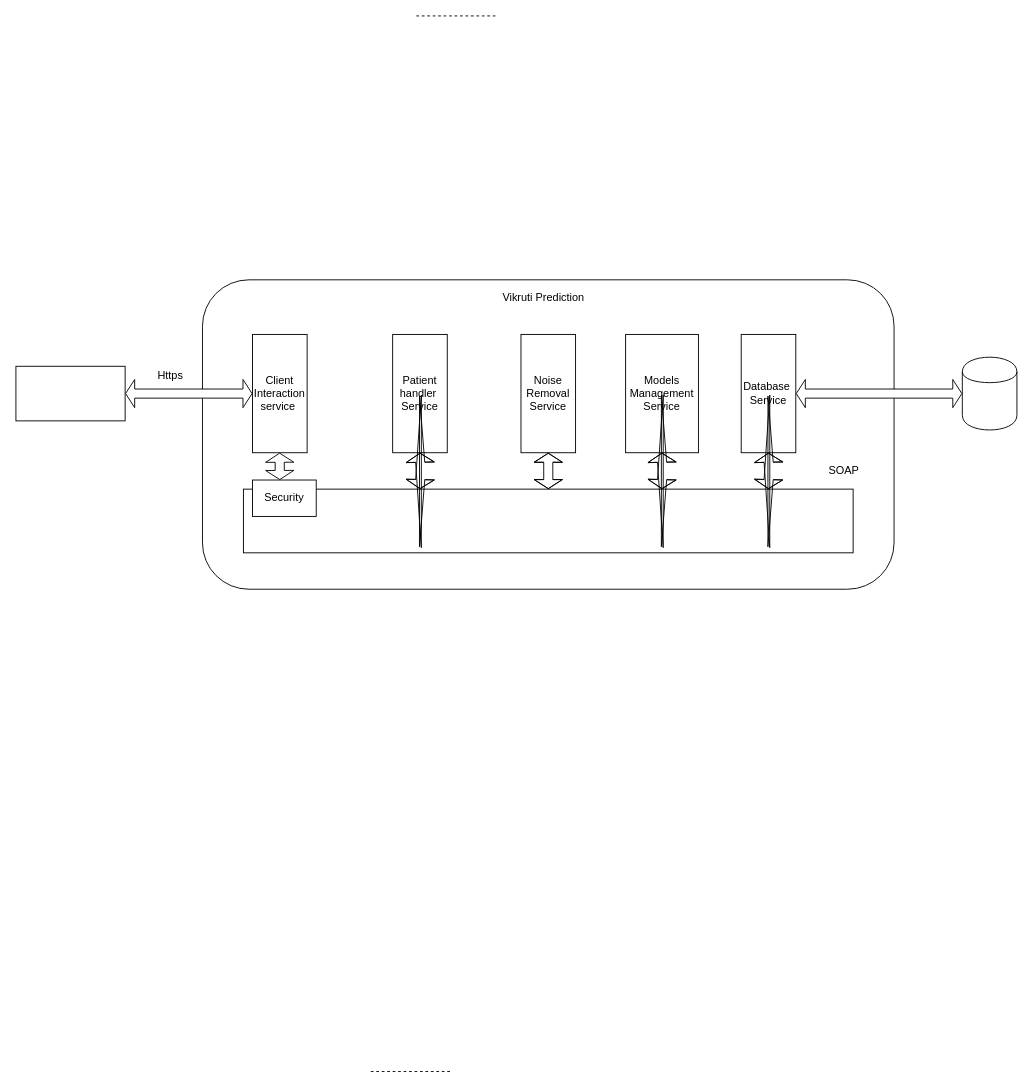
Some shapes in this 1033 by 1088 pixel diagram are drawn without their labels. The shapes that lost their labels are listed below. From the top down, each one's box as (x1, y1, x2, y2) in pixels, then its label:
(15, 365, 125, 421): Client
(961, 356, 1017, 430): DB
(243, 488, 853, 553): ESB
